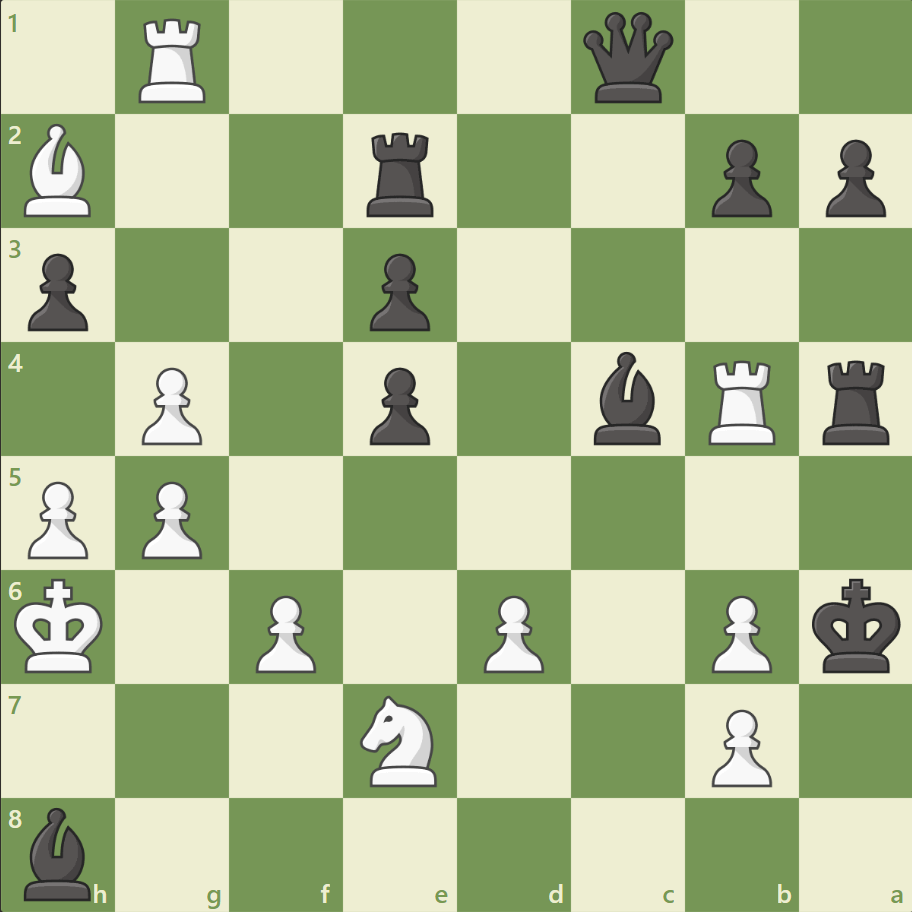B: (17, 120, 101, 222)
K: (11, 571, 111, 679)
N: (351, 688, 449, 791)
P: (701, 700, 776, 791), (701, 586, 776, 677), (474, 586, 549, 677), (247, 586, 322, 677), (133, 473, 208, 564), (20, 473, 95, 564), (133, 359, 208, 450)
R: (700, 352, 783, 449), (133, 12, 215, 109)
b: (17, 801, 101, 904), (585, 347, 669, 449)
k: (806, 571, 906, 679)
p: (20, 246, 95, 337), (701, 132, 776, 223), (361, 359, 435, 450), (361, 246, 435, 337), (815, 132, 889, 223)
q: (578, 9, 677, 108)
r: (814, 352, 897, 449), (360, 125, 442, 222)
